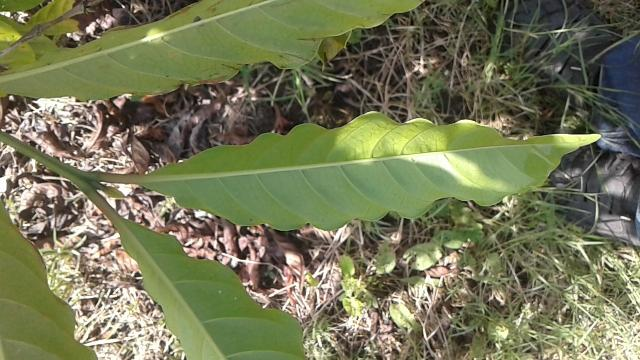healthy: (142, 108, 608, 234)
